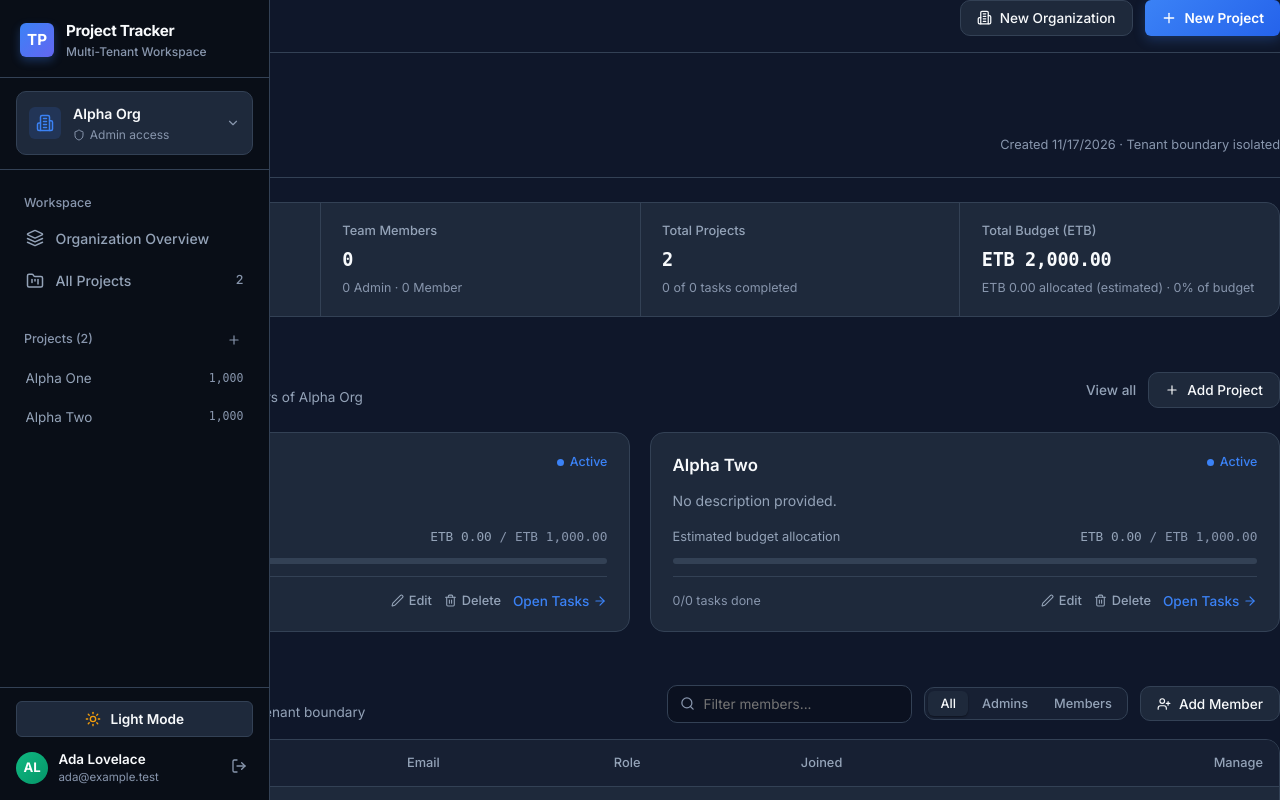
Test case: Failed operations never change the sidebar › a rejected create keeps the count and list, shows the error in the dialog, and does not refetch
The image size is (1280, 800).
Expected: the text "Total Projects" is shown, [662, 223, 745, 238]
Click the button "New Project": {"x": 1212, "y": 18} [1144, 0, 1279, 36]
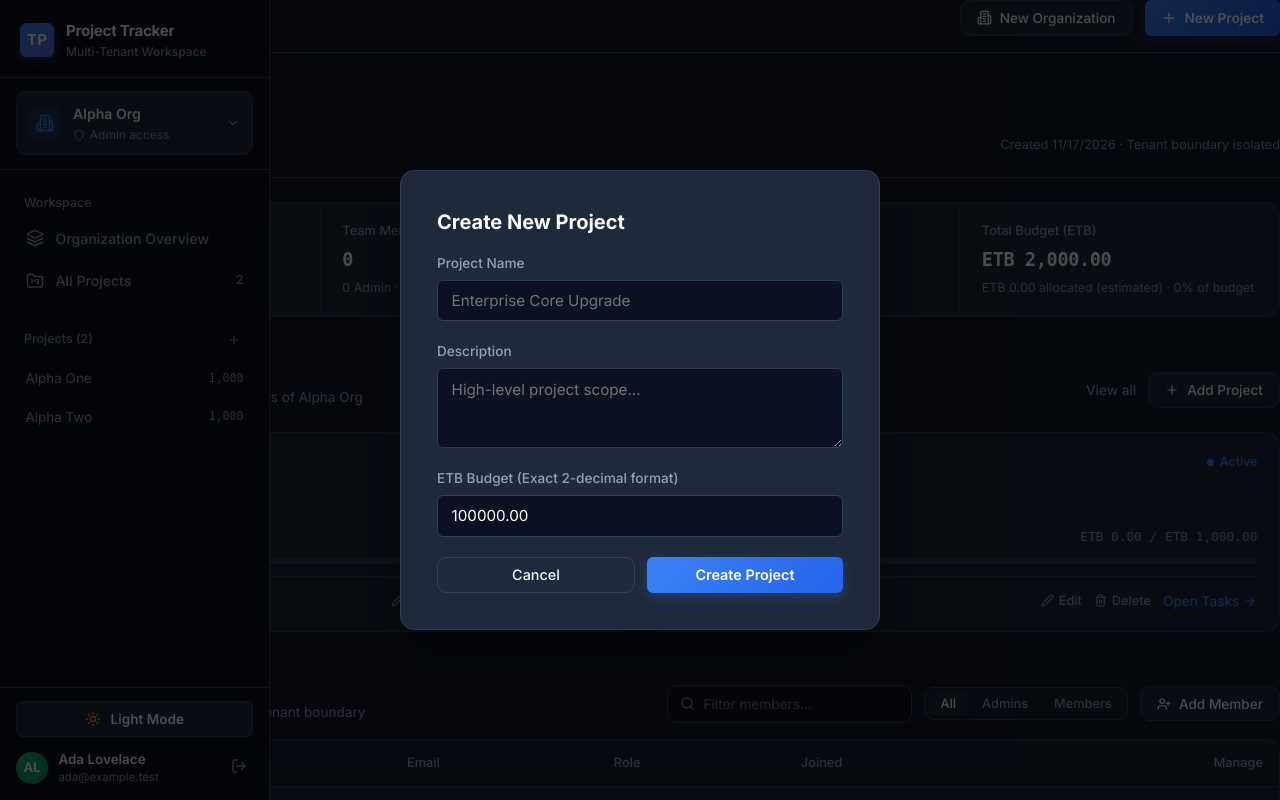
In the field with placeholder "Enterprise Core Upgrade": {"x": 640, "y": 300} [437, 280, 843, 321], type "Never Saved"
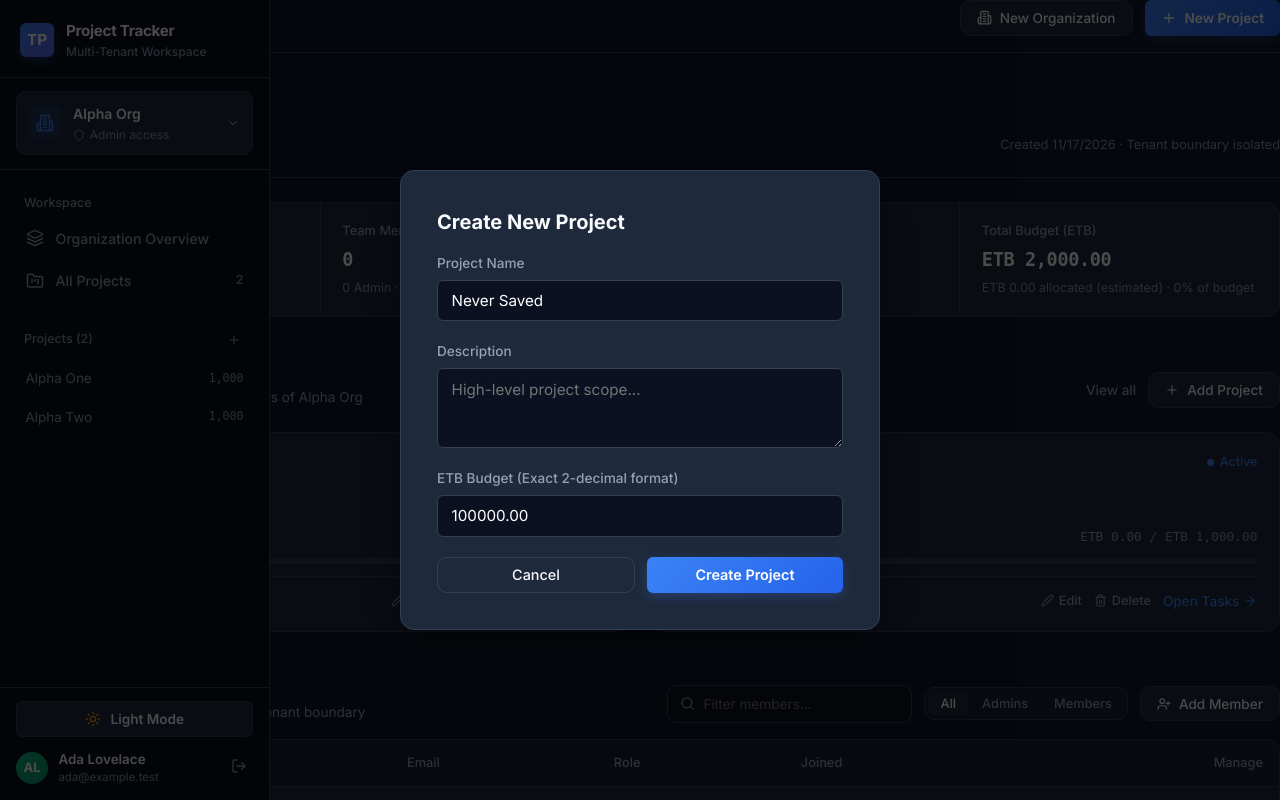
Click the button "Create Project": {"x": 745, "y": 575} [647, 556, 843, 593]
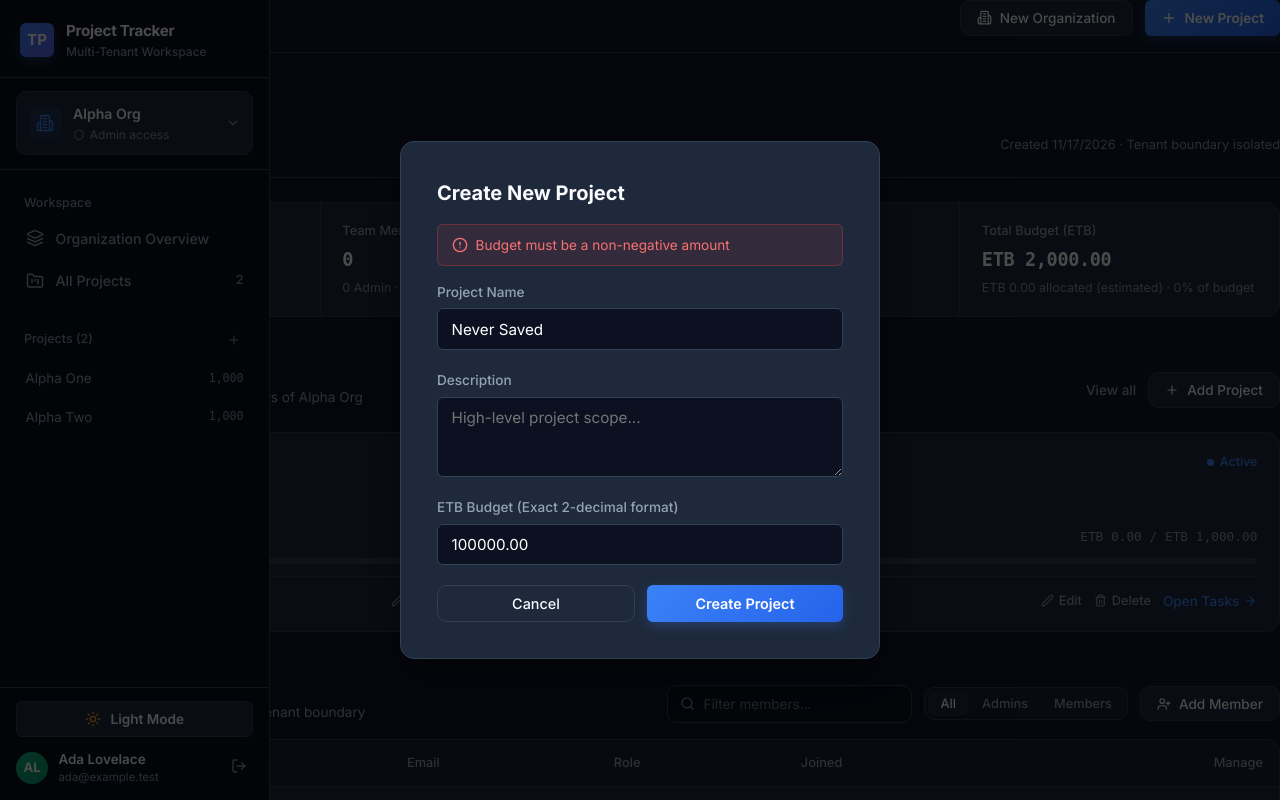
Expected: the text "Projects (2)" is shown, [24, 330, 93, 349]
Now the text "Budget must be a non-negative amount" is shown, box [476, 235, 730, 255]
